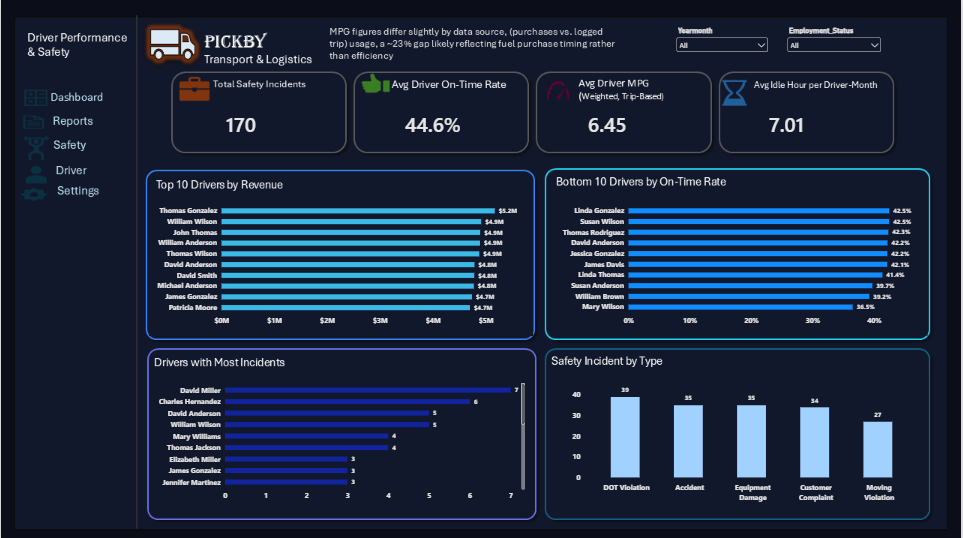

What the dashboard file says about the page in this screenshot:
{"tool":"powerbi","page":{"name":"Driver Performance & Safety","canvas":[1920,1080],"ordinal":3},"visuals":[{"type":"cardVisual","fields":{"Data":["Measure.Total Safety Incident"]},"box":[433.3,205.9,193.1,83.7],"z":0},{"type":"cardVisual","fields":{"Data":["Measure.Avg Driver On-Time Rate"]},"box":[791.6,205.9,186.6,83.7],"z":1000},{"type":"cardVisual","fields":{"Data":["Measure.Avg Driver MPG (Weighted)"]},"box":[1158.4,205.9,221,83.7],"z":2000},{"type":"cardVisual","fields":{"Data":["Measure.Avg Idle Hours per Driver-Month"]},"box":[1521,205.9,244.6,83.7],"z":3000},{"type":"clusteredBarChart","fields":{"Y":["Measure.Avg Driver On-Time Rate"],"Category":["drivers.Full Name"]},"box":[1106.9,386.1,746.5,285.3],"z":4000},{"type":"clusteredColumnChart","fields":{"Y":["Measure.Total Safety Incident"],"Category":["safety_incidents.incident_type"]},"box":[1107.1,743.2,746.5,278.9],"z":5000},{"type":"clusteredBarChart","fields":{"Category":["drivers.Full Name"],"Y":["Measure.Total Safety Incident"]},"box":[296.1,743.2,768.4,278.7],"z":6000},{"type":"clusteredBarChart","fields":{"Category":["drivers.Full Name"],"Y":["Measure.Total Revenue"]},"box":[296.1,385.2,768.4,286.5],"z":7000},{"type":"slicer","fields":{"Values":["drivers.employment_status"]},"box":[1568.2,51.5,197.4,75.1],"z":8000},{"type":"slicer","fields":{"Values":["Date.Yearmonth"]},"box":[1345.1,51.5,193.1,75.1],"z":9000}]}

Visuals, with their boxes on the page's 1920x1080 design canvas (x1, y1, x2, y2). These are canvas units, not pixel positions in the 963x538 screenshot, which may show the page scaled, cropped or inside an application window:
cardVisual - Measure.Total Safety Incident: (left=433, top=206, right=626, bottom=290)
cardVisual - Measure.Avg Driver On-Time Rate: (left=792, top=206, right=978, bottom=290)
cardVisual - Measure.Avg Driver MPG (Weighted): (left=1158, top=206, right=1379, bottom=290)
cardVisual - Measure.Avg Idle Hours per Driver-Month: (left=1521, top=206, right=1766, bottom=290)
clusteredBarChart - Measure.Avg Driver On-Time Rate x drivers.Full Name: (left=1107, top=386, right=1853, bottom=671)
clusteredColumnChart - Measure.Total Safety Incident x safety_incidents.incident_type: (left=1107, top=743, right=1854, bottom=1022)
clusteredBarChart - drivers.Full Name x Measure.Total Safety Incident: (left=296, top=743, right=1064, bottom=1022)
clusteredBarChart - drivers.Full Name x Measure.Total Revenue: (left=296, top=385, right=1064, bottom=672)
slicer - drivers.employment_status: (left=1568, top=52, right=1766, bottom=127)
slicer - Date.Yearmonth: (left=1345, top=52, right=1538, bottom=127)
